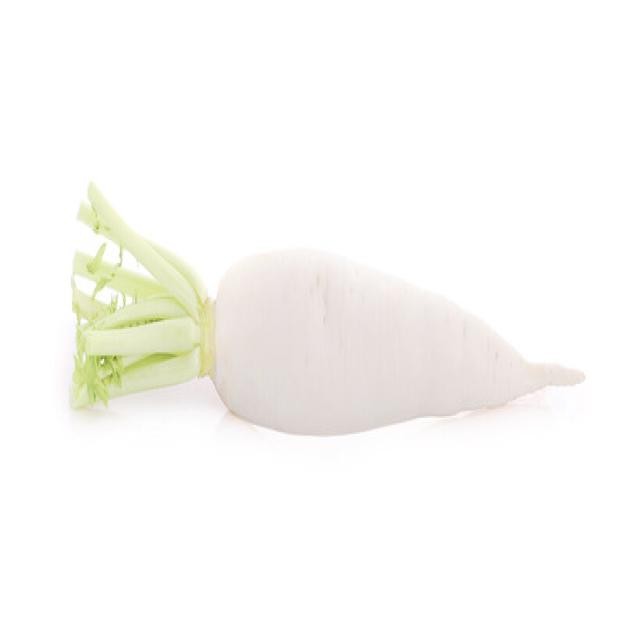Coriander Leaves: (68, 178, 212, 410)
Radish: (69, 178, 585, 437)
